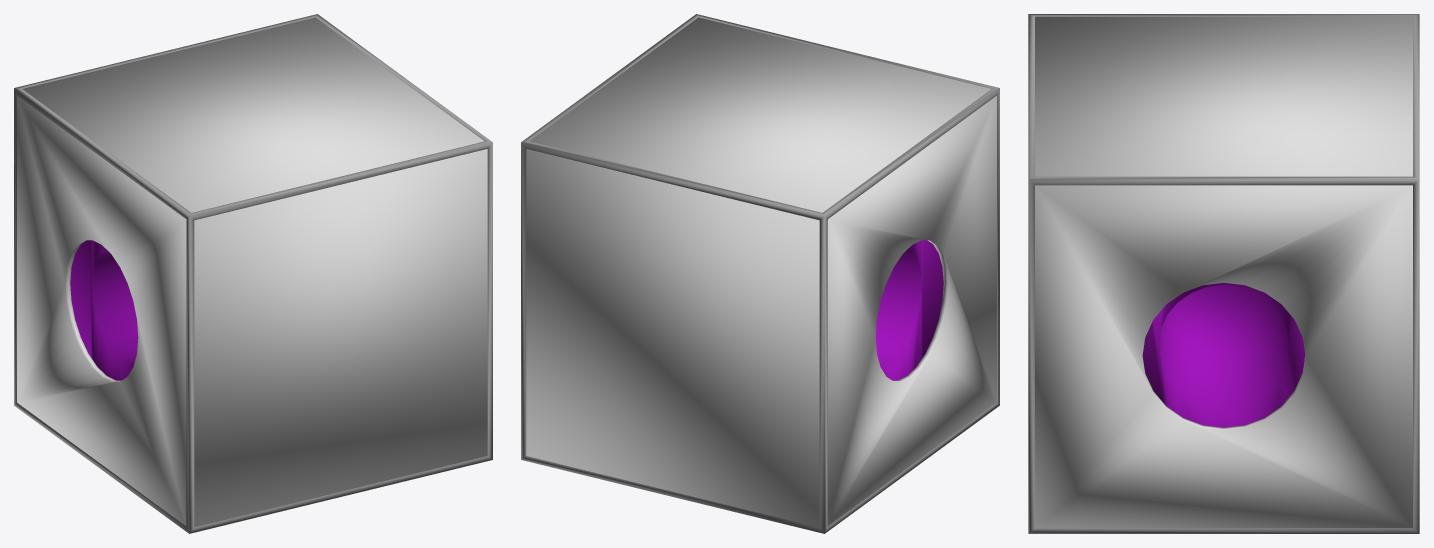
Rendered from pump_purple.dae.
The picture shows the model from 3 angles, left to right: view 1: azimuth 30°, elevation 25°; view 2: azimuth 150°, elevation 25°; view 3: azimuth 270°, elevation 25°; orthographic projection. The views are drawn at different scales.
Parts seen in each view (by area): view 1: pump_enclosure; view 2: pump_enclosure; view 3: pump_enclosure.
Boxes of the visible parts, x1,y1,x2,y2 form: pump_enclosure: (14,14,492,533); pump_enclosure: (521,14,999,533); pump_enclosure: (1028,14,1419,533).
Size of the model in its own units: 0.12 by 0.12 by 0.12.
